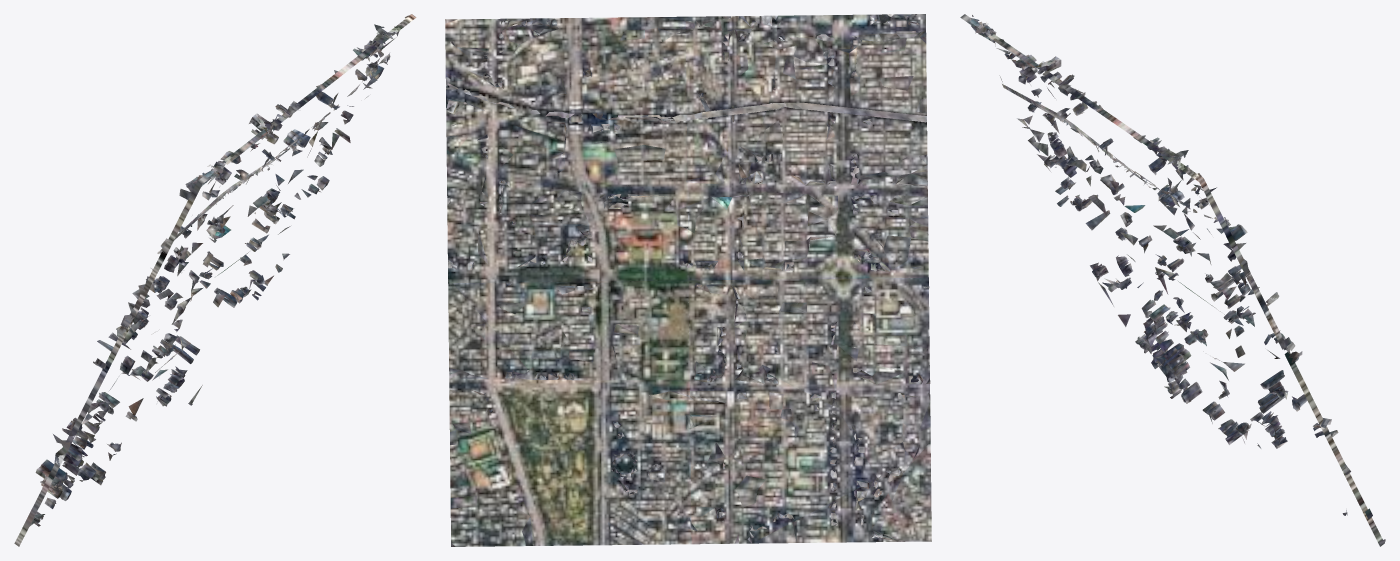
3 renders of one model, left to right at view 1: azimuth 30°, elevation 25°; view 2: azimuth 150°, elevation 25°; view 3: azimuth 270°, elevation 25°, orthographic. The views are drawn at different scales.
Bounding box in the file's own units: 2445 × 2261 × 2067.
Materials: 2 (2 with a texture image).
